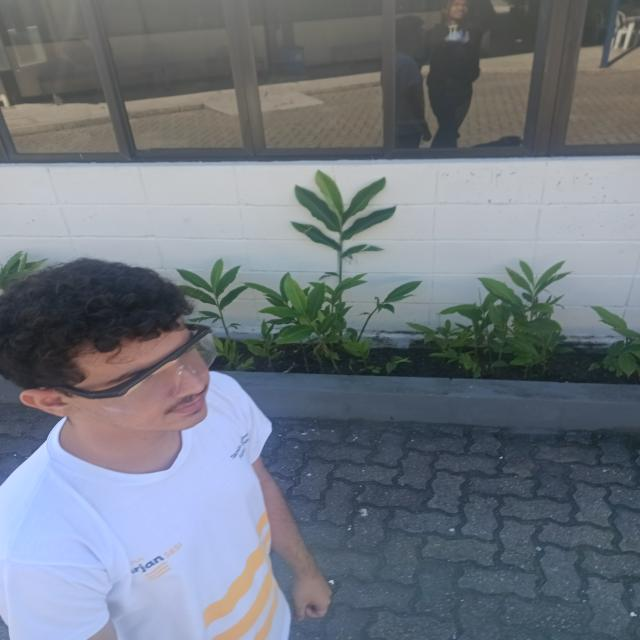oculos-epi: (63, 324, 216, 413)
